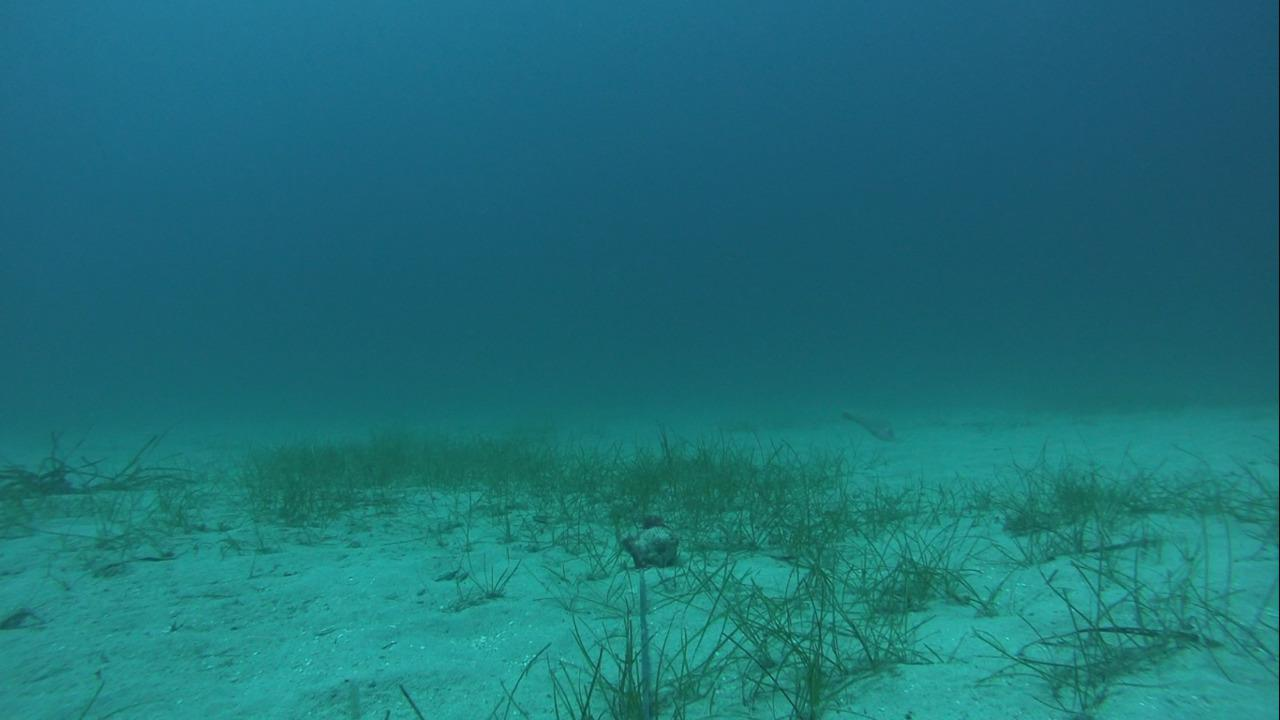raor: (819, 401, 902, 447)
